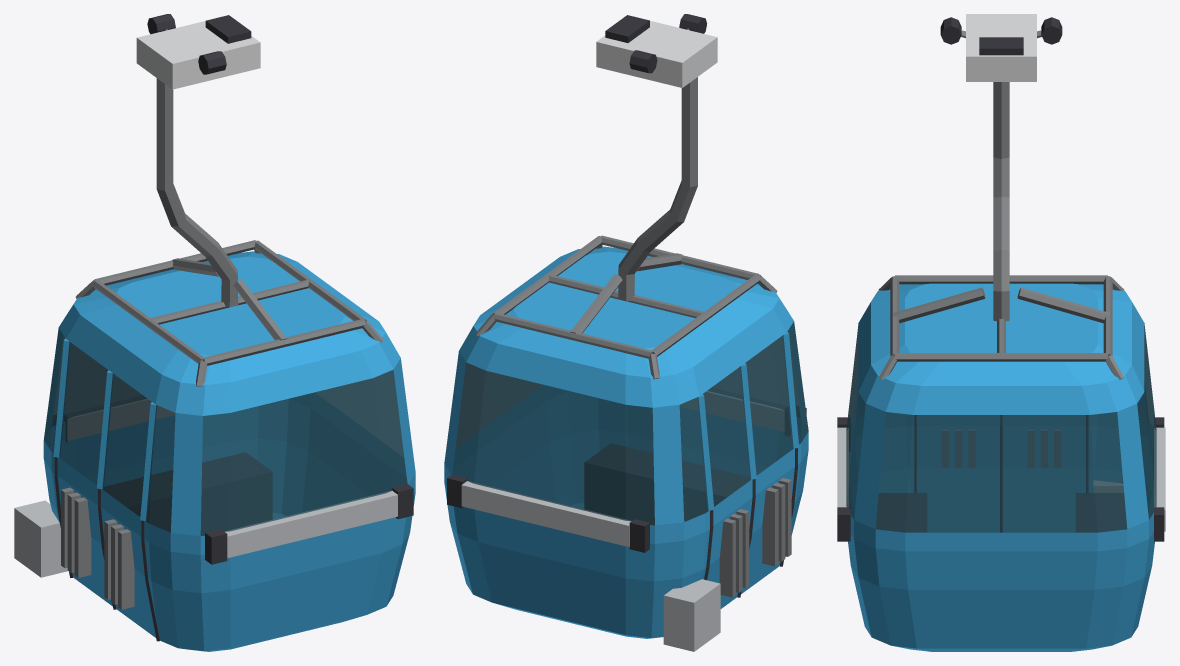
File: gondola.glb
3 views of the same model, side by side, from view 1: azimuth 30°, elevation 25°; view 2: azimuth 150°, elevation 25°; view 3: azimuth 270°, elevation 25° (orthographic). The views are drawn at different scales.
Visible parts, largest first — view 1: Cabin; view 2: Cabin; view 3: Cabin.
Part boxes in pixels (box(x1,y1,x2,y2)): Cabin: box(14, 14, 415, 651); Cabin: box(444, 14, 808, 651); Cabin: box(837, 14, 1165, 651).
Size of the model in its own units: 2.1 by 4.21 by 2.22.
